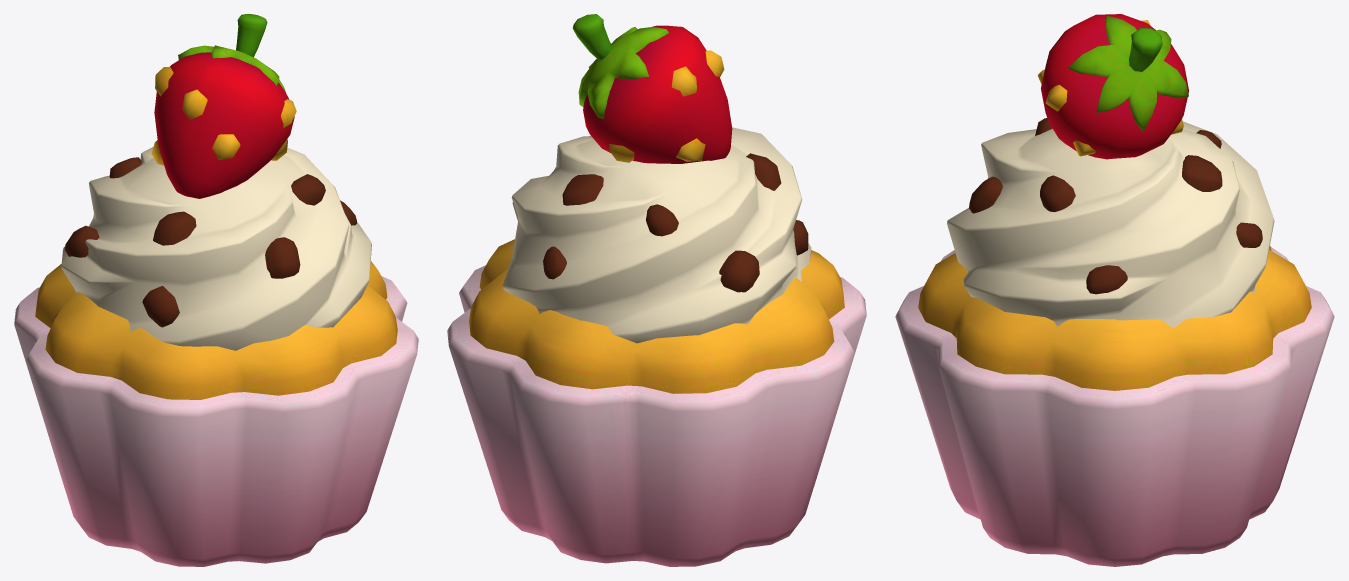
3 renders of one model, left to right at view 1: azimuth 30°, elevation 25°; view 2: azimuth 150°, elevation 25°; view 3: azimuth 270°, elevation 25°, orthographic. The views are drawn at different scales.
Bounding box in the file's own units: 1.71 × 2.15 × 1.71.
Materials: 1 (1 with a texture image).
